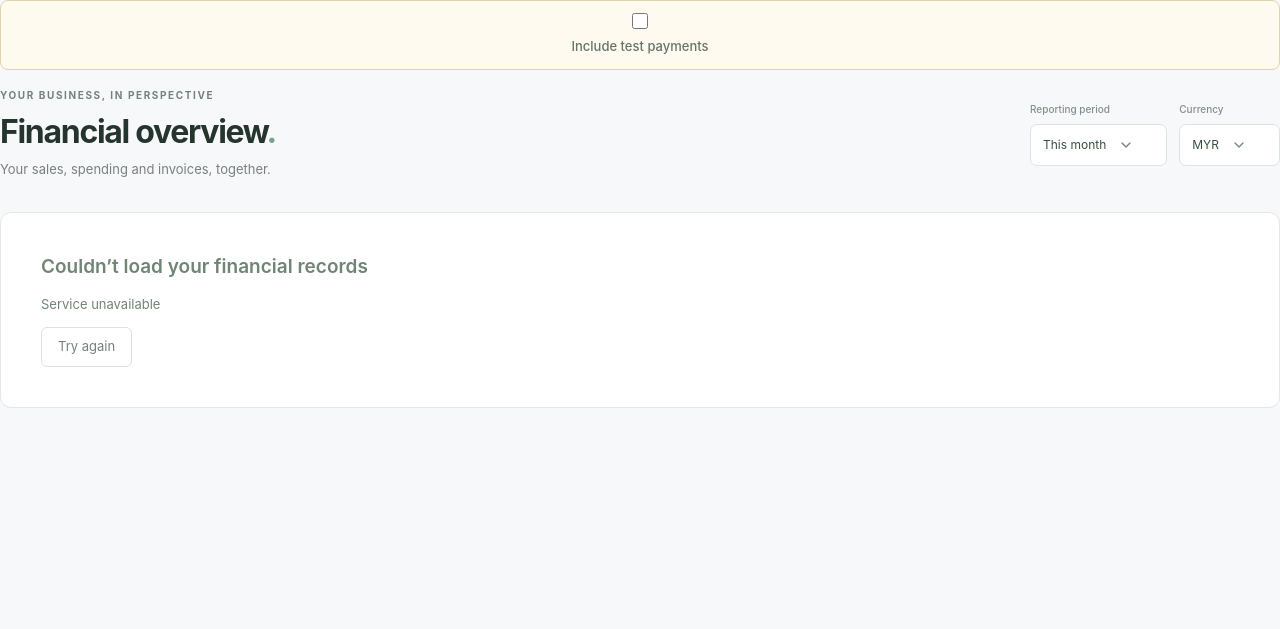
Test: offers a retry when financial data cannot be loaded
Expected: the message "Couldn’t load your financial records Service unavailable Try again" is shown, top-left (0, 212), bottom-right (1279, 408)
Click the button "Try again" at (87, 347), box top-left (41, 327), bottom-right (132, 367)
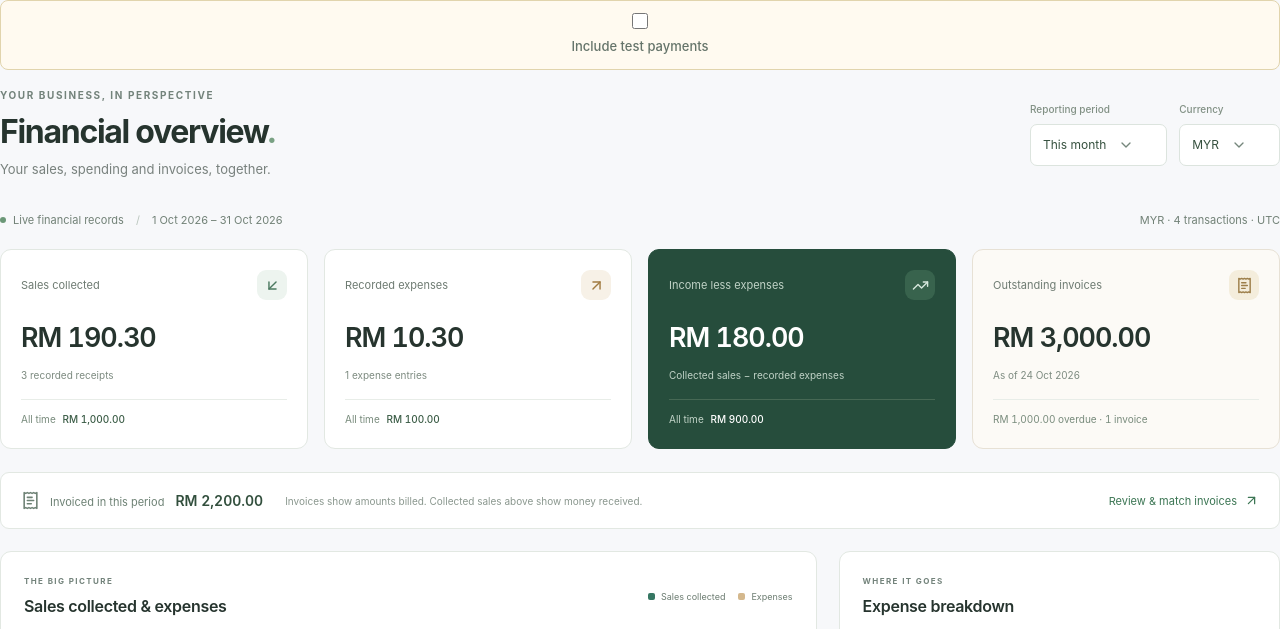
Expected: the button "Sales collected" is shown, top-left (0, 249), bottom-right (308, 449)
